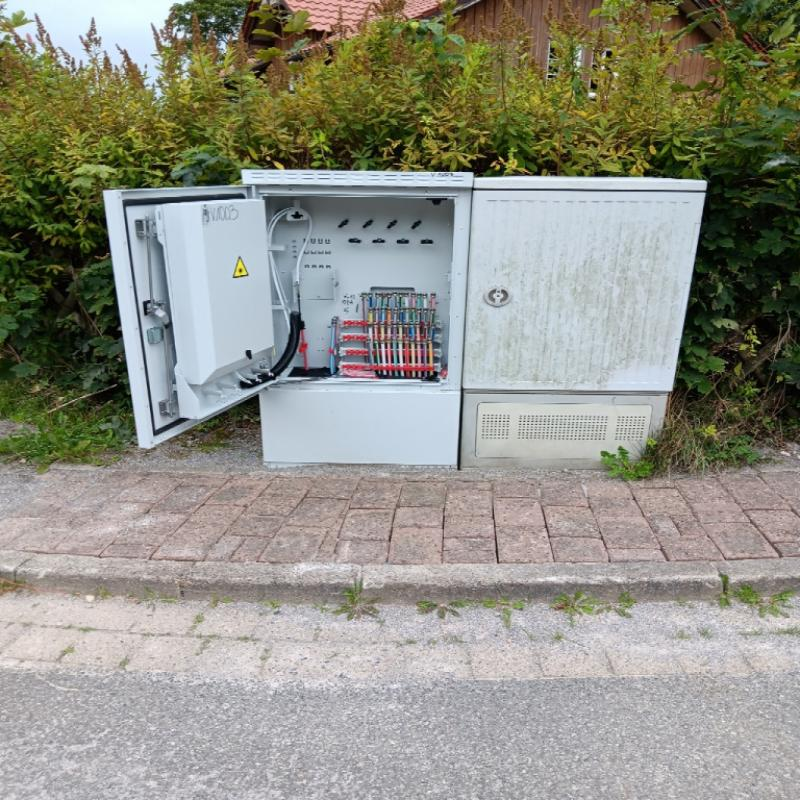NT-Gehause: (97, 171, 711, 478)
